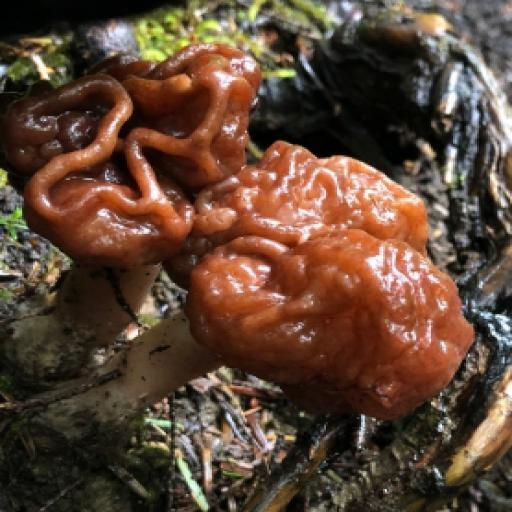mushroom: (0, 34, 289, 287), (179, 217, 481, 427), (192, 141, 429, 255)
